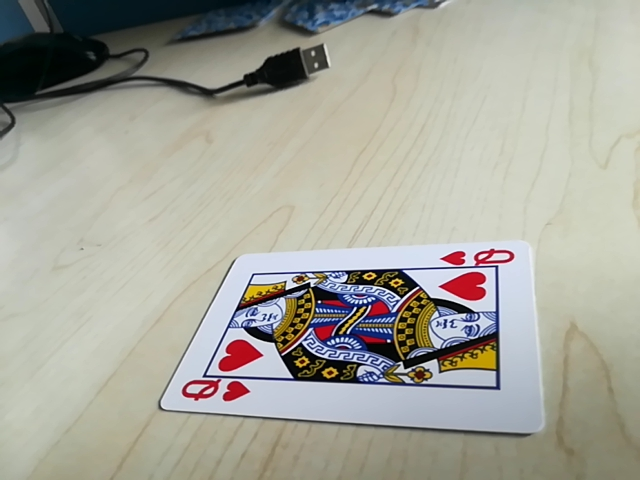hx q: (174, 377, 253, 407), (438, 244, 520, 271)
